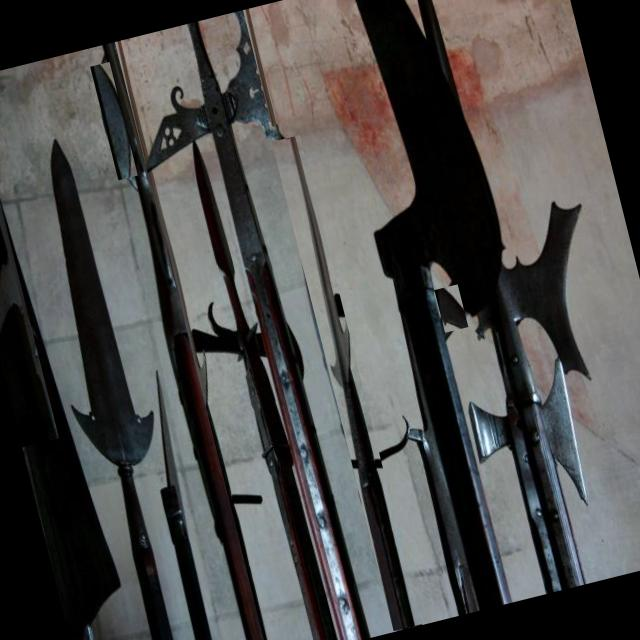Axe: (145, 8, 369, 640), (104, 42, 270, 640), (356, 0, 511, 610), (225, 135, 356, 640), (289, 136, 415, 630), (51, 141, 172, 640), (482, 202, 589, 589), (468, 393, 563, 593), (157, 372, 212, 640), (0, 202, 58, 438), (536, 360, 587, 556), (92, 65, 131, 177), (246, 8, 276, 126), (439, 289, 467, 328)
